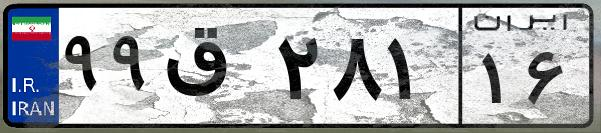1: (385, 28, 445, 110), (475, 38, 525, 113)
2: (270, 28, 330, 110)
6: (525, 38, 570, 115)
8: (330, 28, 385, 110)
9: (57, 26, 110, 100), (110, 28, 158, 98)
ق: (158, 20, 270, 120)
